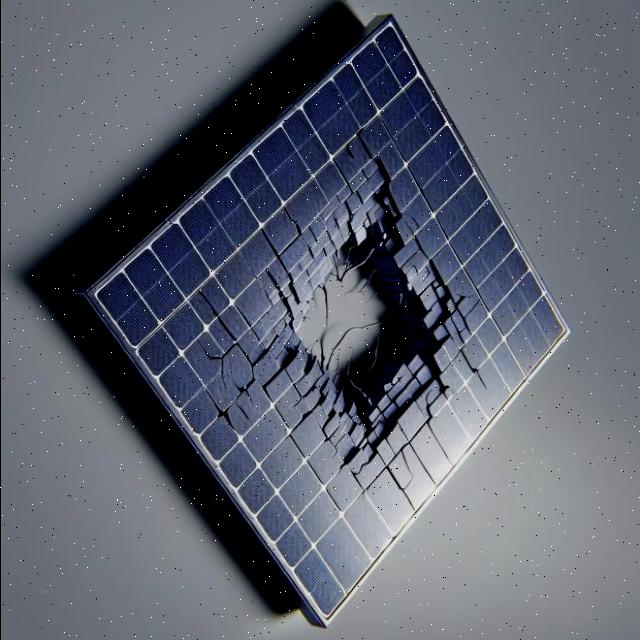Anomaly Solar Panel: (58, 23, 640, 623)
Structural Damage: (205, 151, 514, 497)
